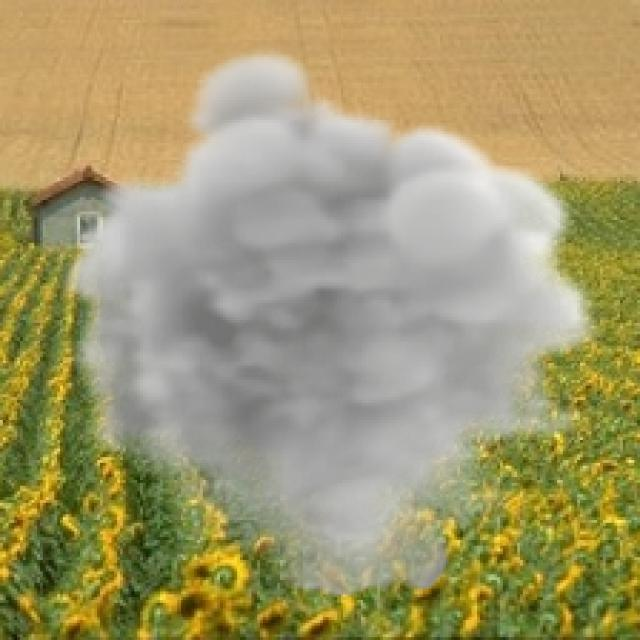smoke: (60, 43, 603, 600)
